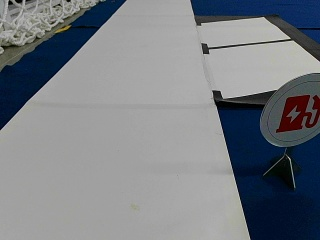battery: (260, 72, 319, 147)
